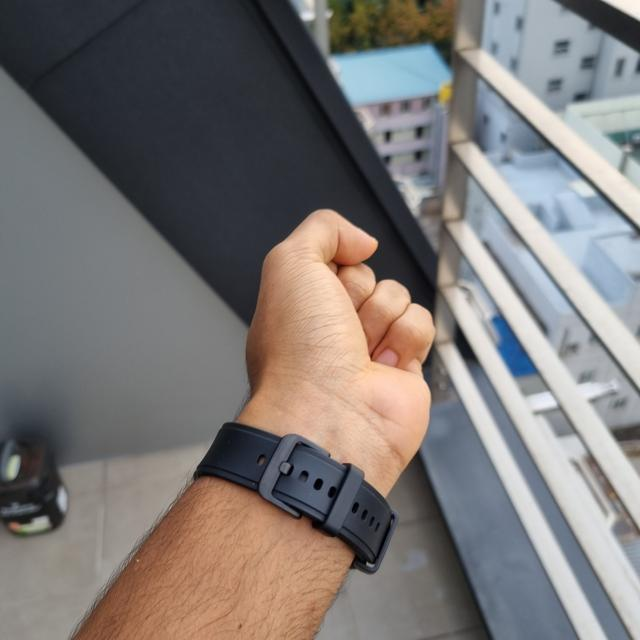Rock: (245, 213, 426, 473)
